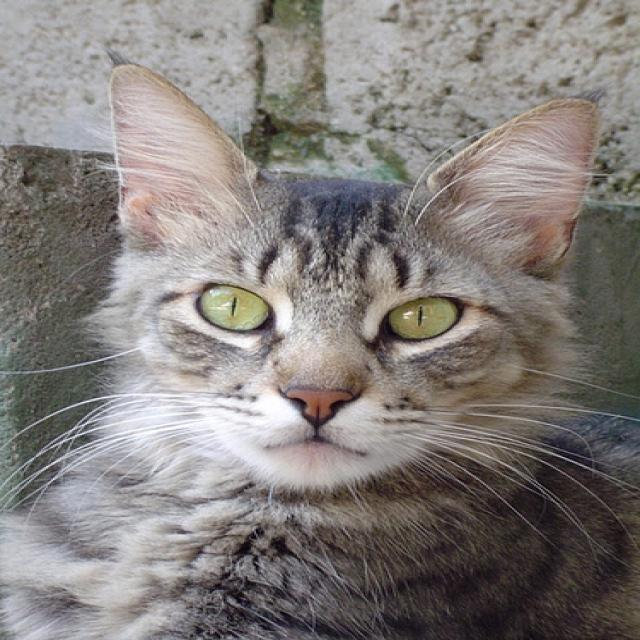left eye: (379, 293, 466, 343)
